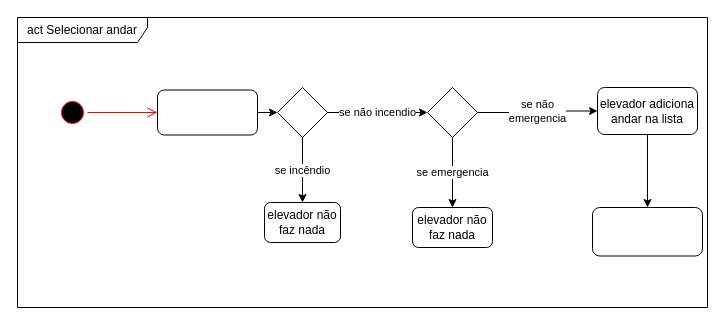
The diagram is 725 pixels wide and 325 high, and some of its shapes have lost their labels. Each missing label, with the centre of its shape:
"elevador vai pro primeiro andar da lista" belongs at (647,231).
"pessoa seleciona andar" belongs at (207,112).
